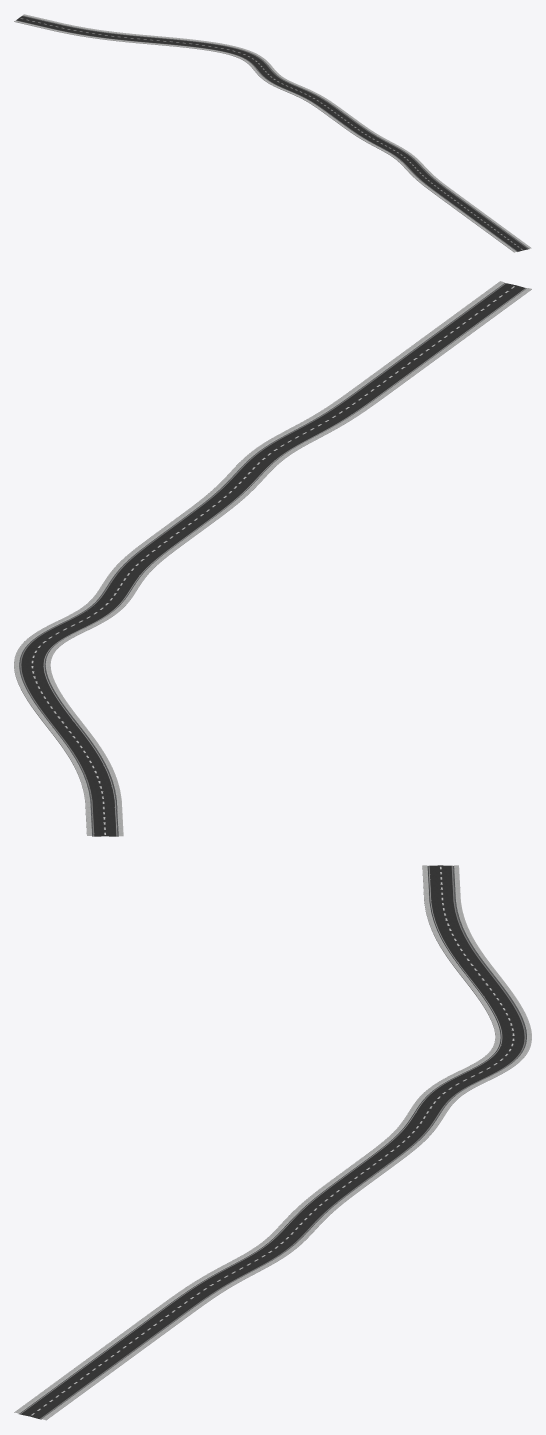
The model's file is highway.fbx.
3 renders of one model, top to bottom at view 1: azimuth 30°, elevation 25°; view 2: azimuth 150°, elevation 25°; view 3: azimuth 330°, elevation 25°, orthographic. The views are drawn at different scales.
Parts seen in each view (by area): view 1: Highway; view 2: Highway; view 3: Highway.
Part boxes in pixels (x1,y1,x2,y2): Highway: [14, 14, 531, 252]; Highway: [14, 281, 531, 836]; Highway: [14, 865, 531, 1420].
Size of the model in its own units: 5631 by 12.35 by 21988.
1 material, 1 textured.
